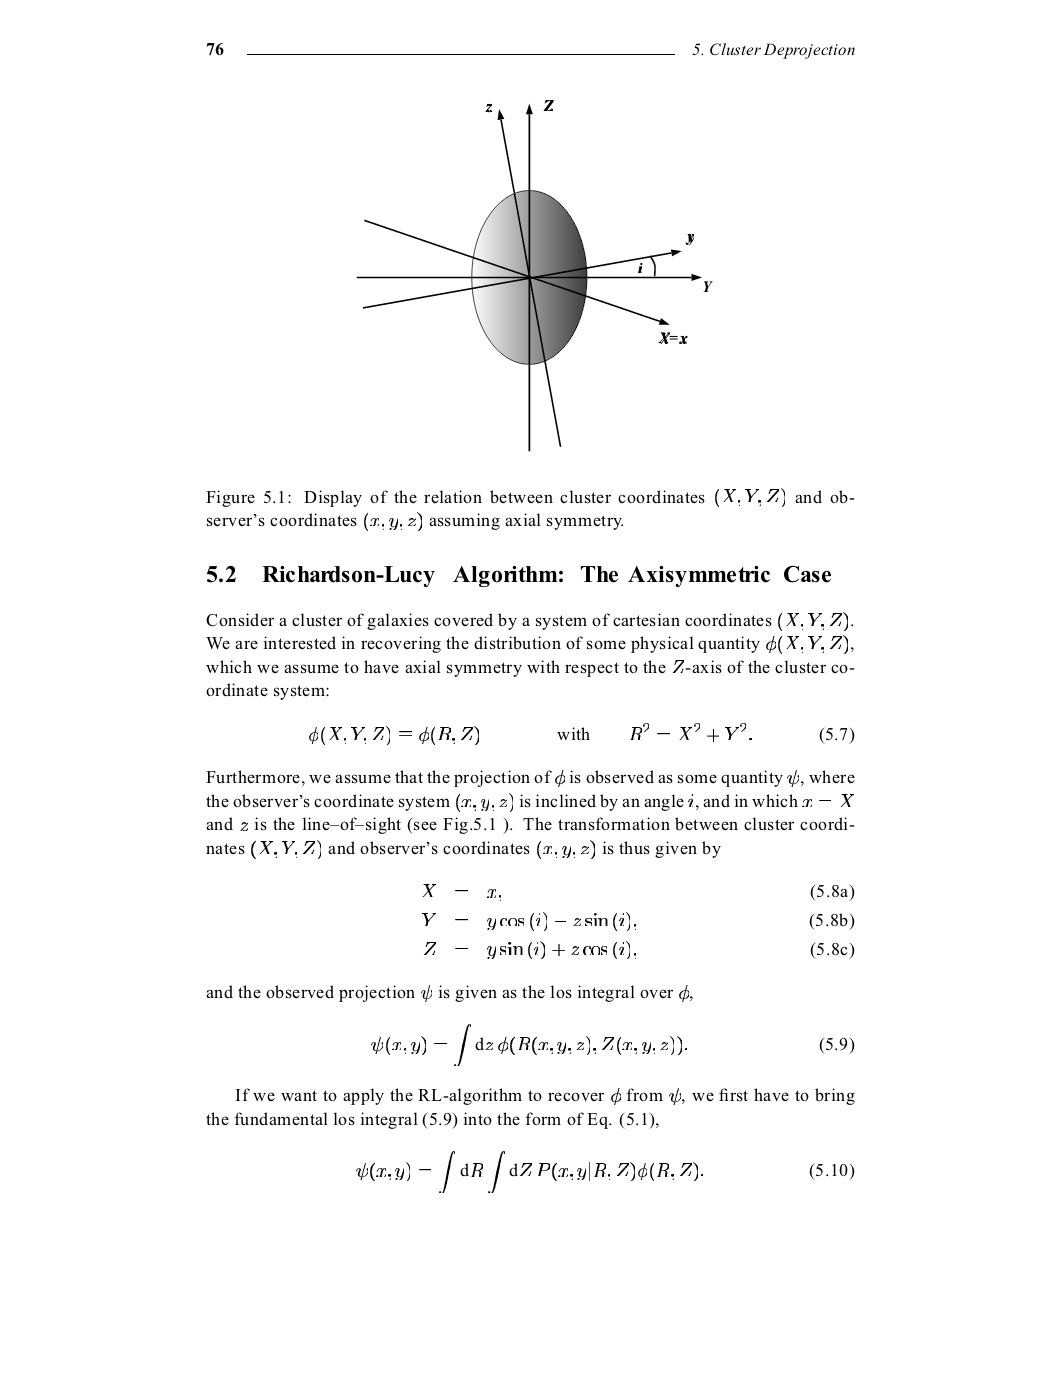figure: (356, 99, 712, 452)
formula: (371, 1022, 854, 1067), (356, 1150, 854, 1192), (309, 722, 854, 744), (422, 911, 854, 931), (424, 939, 854, 960), (422, 883, 854, 900)
